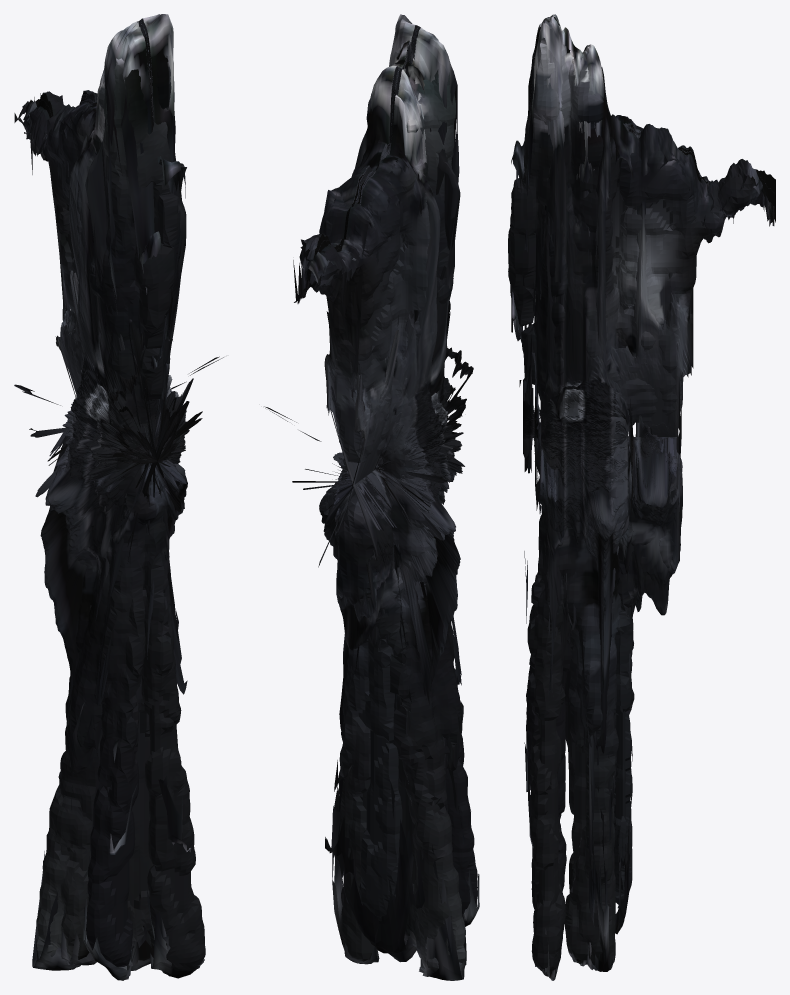
File: volume2_mesh.glb
3 views of the same model, side by side, from view 1: azimuth 30°, elevation 25°; view 2: azimuth 150°, elevation 25°; view 3: azimuth 270°, elevation 25° (orthographic). The views are drawn at different scales.
Visible parts, largest first — view 1: fill, ipn; view 2: fill, ipn; view 3: fill, ipn.
Boxes of the visible parts, x1,y1,x2,y2 form: fill: [24, 54, 205, 970]; ipn: [14, 14, 223, 980]; fill: [299, 48, 477, 972]; ipn: [264, 14, 479, 980]; fill: [508, 37, 762, 972]; ipn: [511, 14, 775, 980].
Bounding box in the file's own units: 0.4204 × 1.81 × 0.4665.
2 materials, 1 textured.
